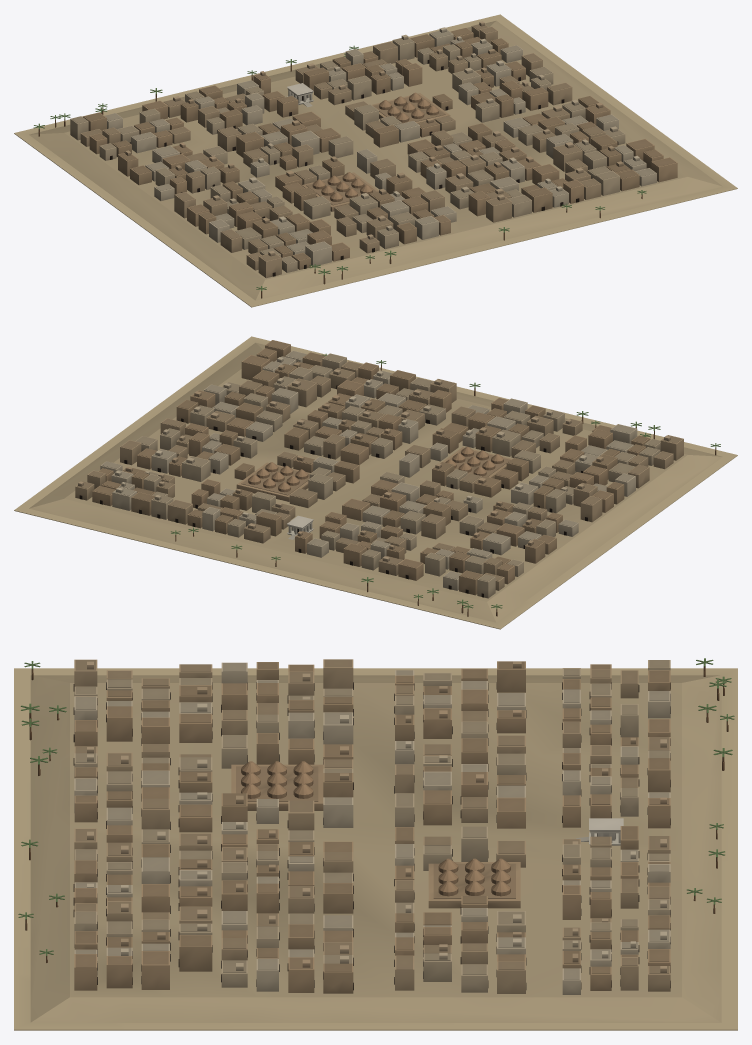
The model's file is town-of-thebes.glb.
3 renders of one model, top to bottom at view 1: azimuth 30°, elevation 25°; view 2: azimuth 150°, elevation 25°; view 3: azimuth 270°, elevation 25°, orthographic. The views are drawn at different scales.
Visible parts, largest first — view 1: p1_houses, p0_mound, p2_shrine, p3_stage3; view 2: p1_houses, p0_mound, p2_shrine, p3_stage3; view 3: p0_mound, p1_houses, p2_shrine, p3_stage3.
Boxes of the visible parts, left/top/right/bottom form: p1_houses: left=70, top=21, right=677, bottom=278; p0_mound: left=14, top=14, right=737, bottom=307; p2_shrine: left=287, top=83, right=450, bottom=211; p3_stage3: left=33, top=45, right=646, bottom=298; p1_houses: left=75, top=340, right=683, bottom=598; p0_mound: left=14, top=336, right=737, bottom=629; p2_shrine: left=236, top=446, right=511, bottom=539; p3_stage3: left=171, top=353, right=720, bottom=616; p0_mound: left=14, top=668, right=737, bottom=1030; p1_houses: left=73, top=659, right=670, bottom=994; p2_shrine: left=231, top=761, right=623, bottom=908; p3_stage3: left=18, top=658, right=734, bottom=962.
Size of the model in its own units: 260 by 13.29 by 220.
